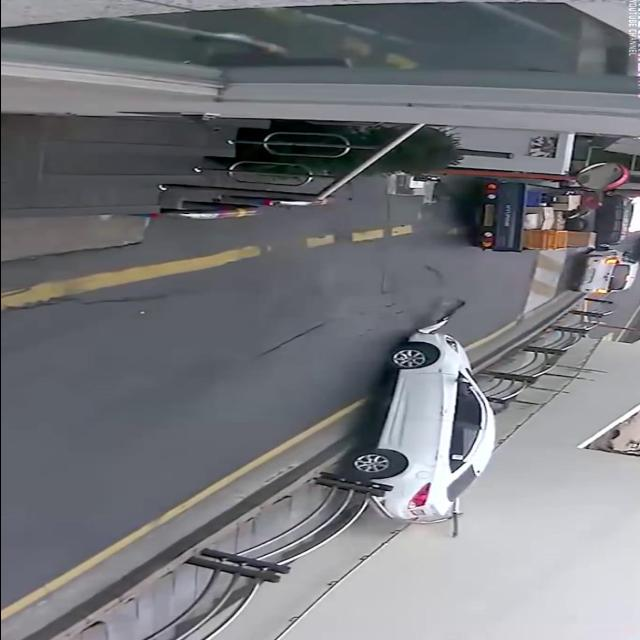accident: (332, 296, 510, 547)
non_accident: (458, 175, 640, 297)
